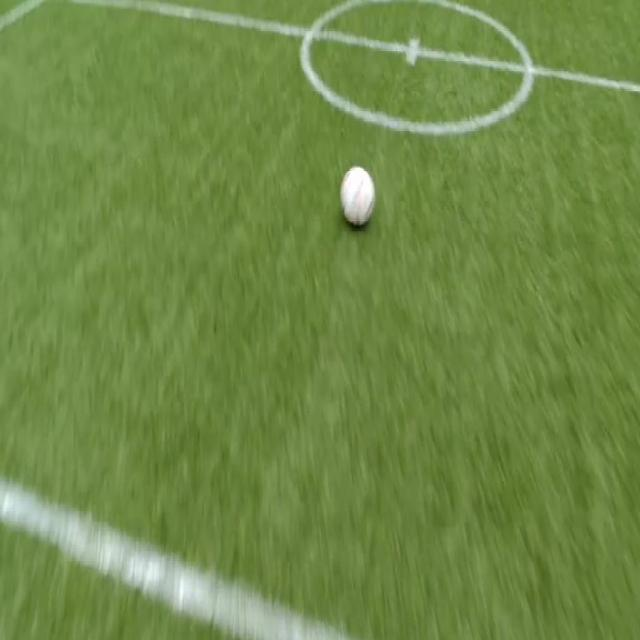ball: (340, 165, 376, 225)
